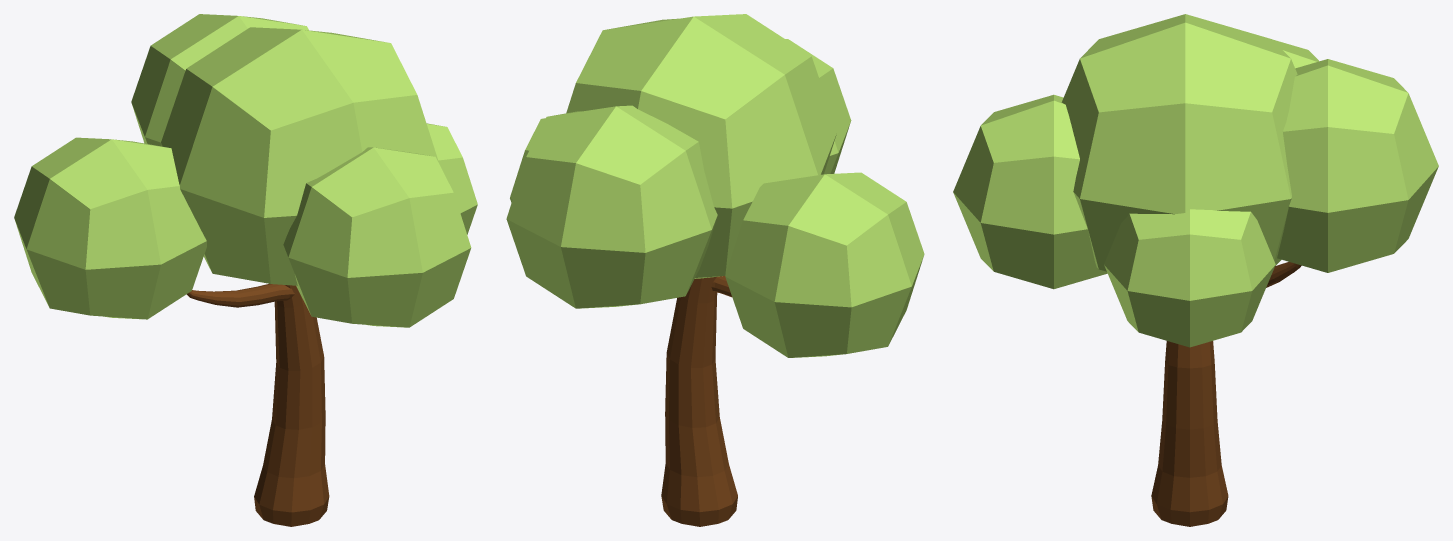
File: Tree2.fbx
3 renders of one model, left to right at view 1: azimuth 30°, elevation 25°; view 2: azimuth 150°, elevation 25°; view 3: azimuth 270°, elevation 25°, orthographic. The views are drawn at different scales.
Parts seen in each view (by area): view 1: Cube.002; view 2: Cube.002; view 3: Cube.002.
Boxes of the visible parts, left/top/right/bottom form: Cube.002: left=14, top=14, right=477, bottom=526; Cube.002: left=506, top=14, right=924, bottom=526; Cube.002: left=953, top=14, right=1438, bottom=526.
Size of the model in its own units: 754 by 855 by 752.
